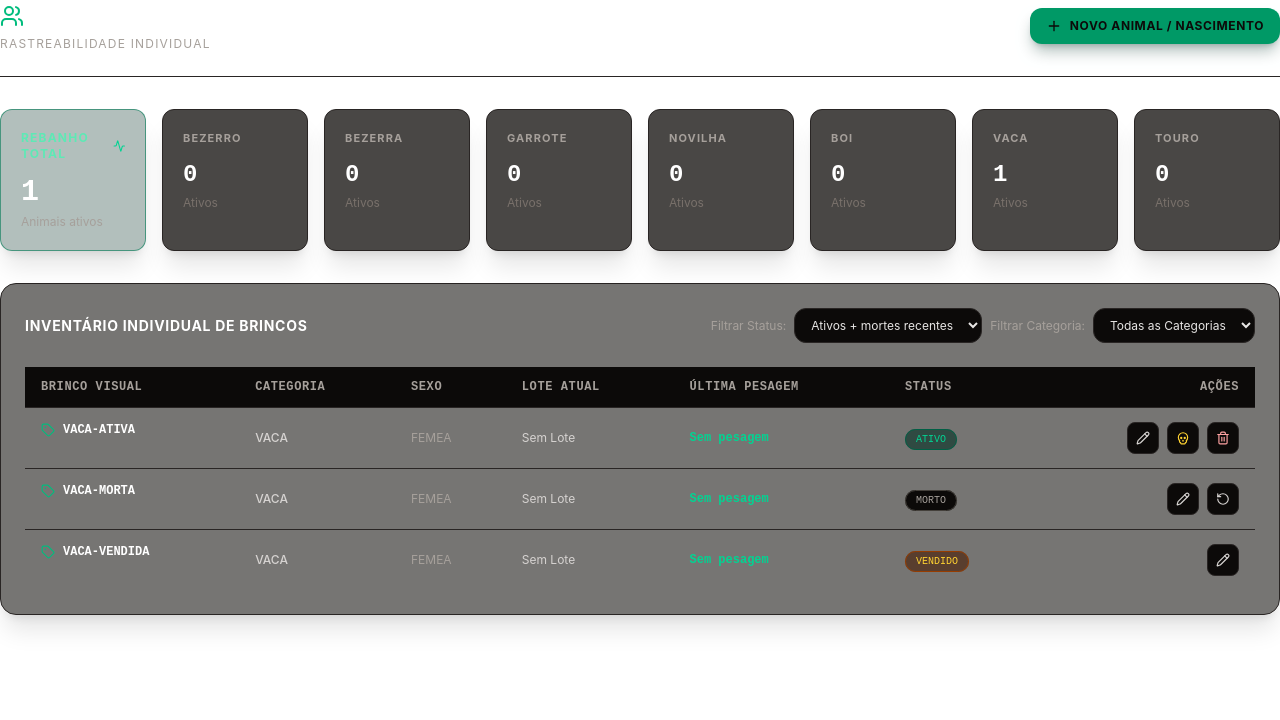
Test case: Rebanho renderizado › @spec:AC-340 @spec:AC-341 exibe os dois fluxos, origem histórica e lote sem seleção automática
The image size is (1280, 720).
Expected: the text "VACA-ATIVA" is shown, [25, 408, 239, 452]
Click the button "Novo Animal / Nascimento": point(1155, 26) [1030, 8, 1279, 44]
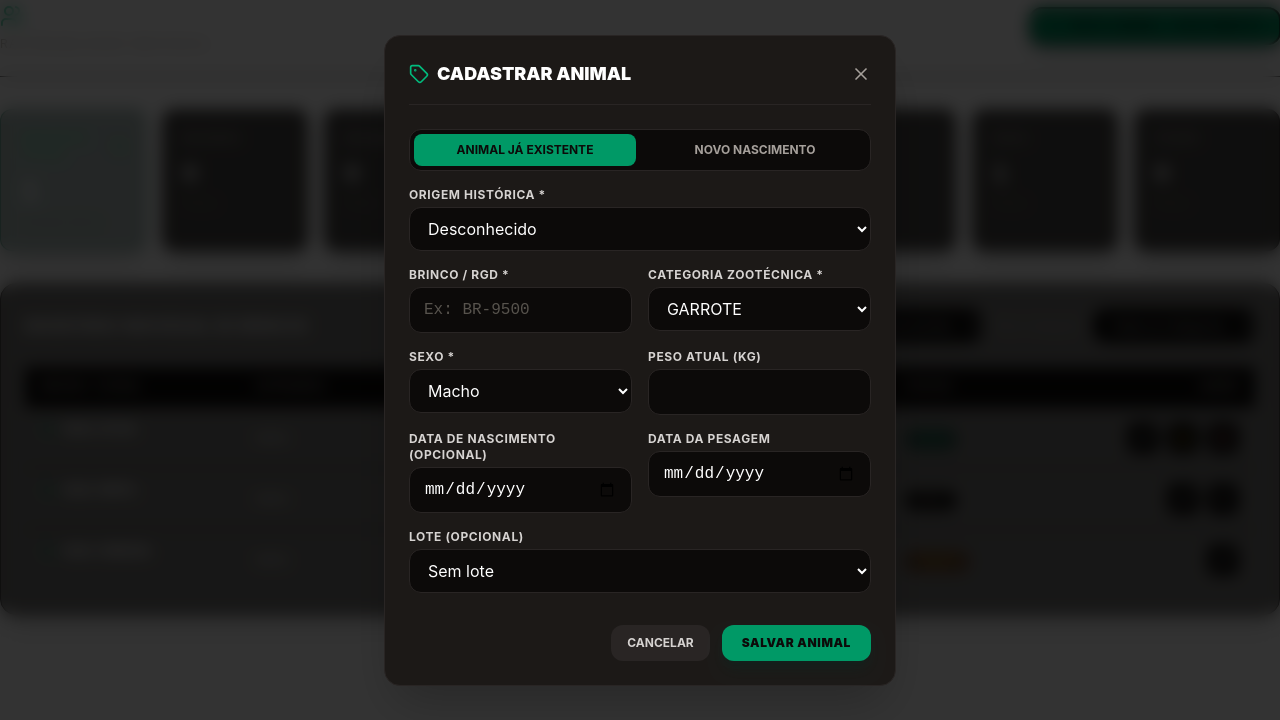
Result: the heading "CADASTRAR ANIMAL" is shown at [409, 60, 631, 88]
Result: the button "Animal já existente" is shown at [414, 134, 636, 166]
Result: the button "Novo nascimento" is shown at [644, 134, 866, 166]
